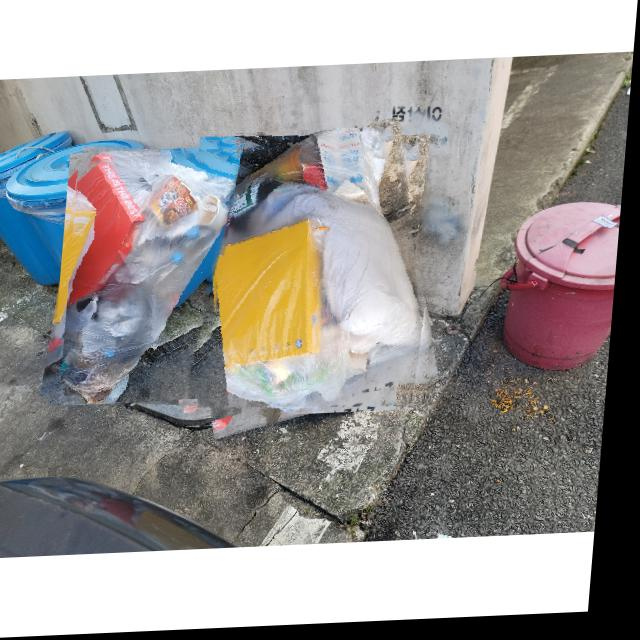other_trashbag: (196, 130, 429, 412), (68, 156, 238, 404)
